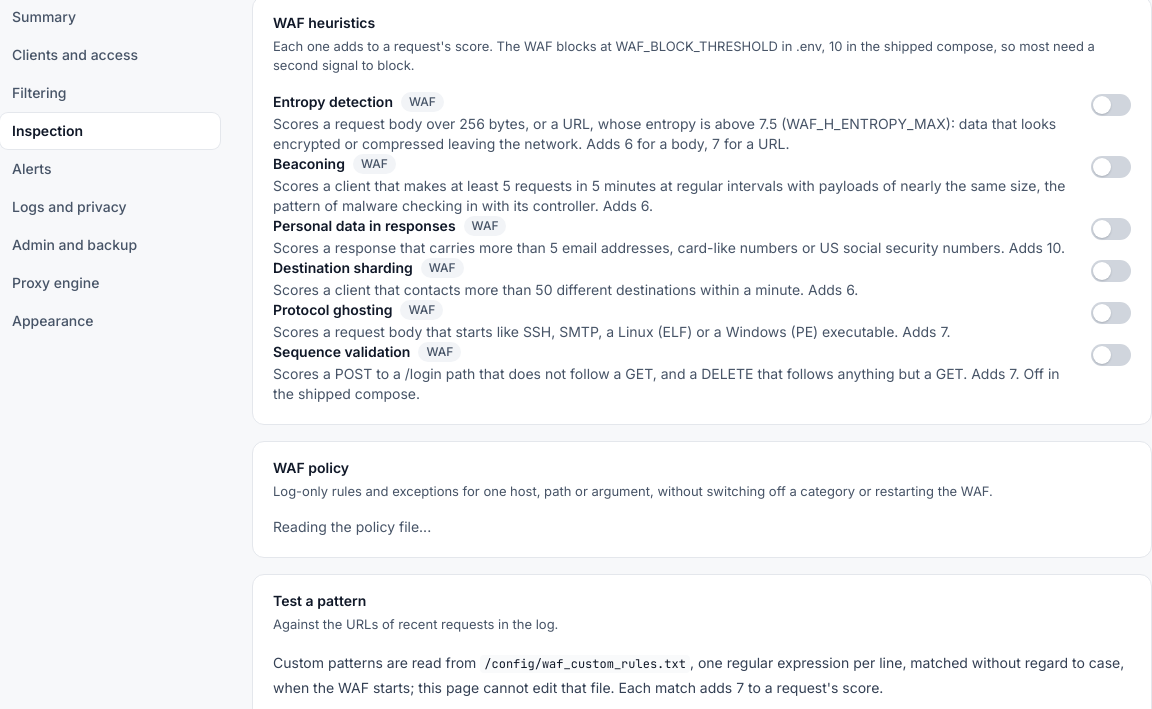
Test: Settings sections, part B › Inspection › reports that the WAF refused the toggle, with the reason the backend gave
This screenshot has width=1152, height=709.
(page scrolled)
Click the switch named "Sequence validation" in the row of "Sequence validation" at (1111, 354), box [1091,344,1131,366]
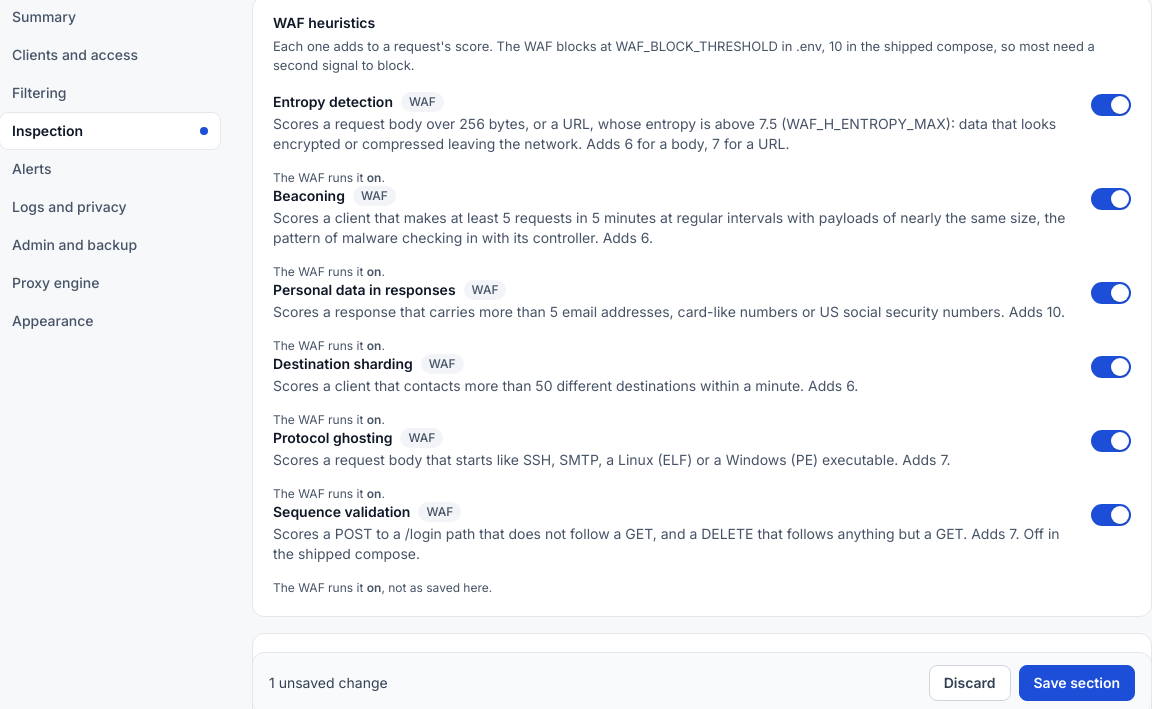
Click the button "Save section" at (1077, 683), box [1018,665,1135,701]
(page scrolled)
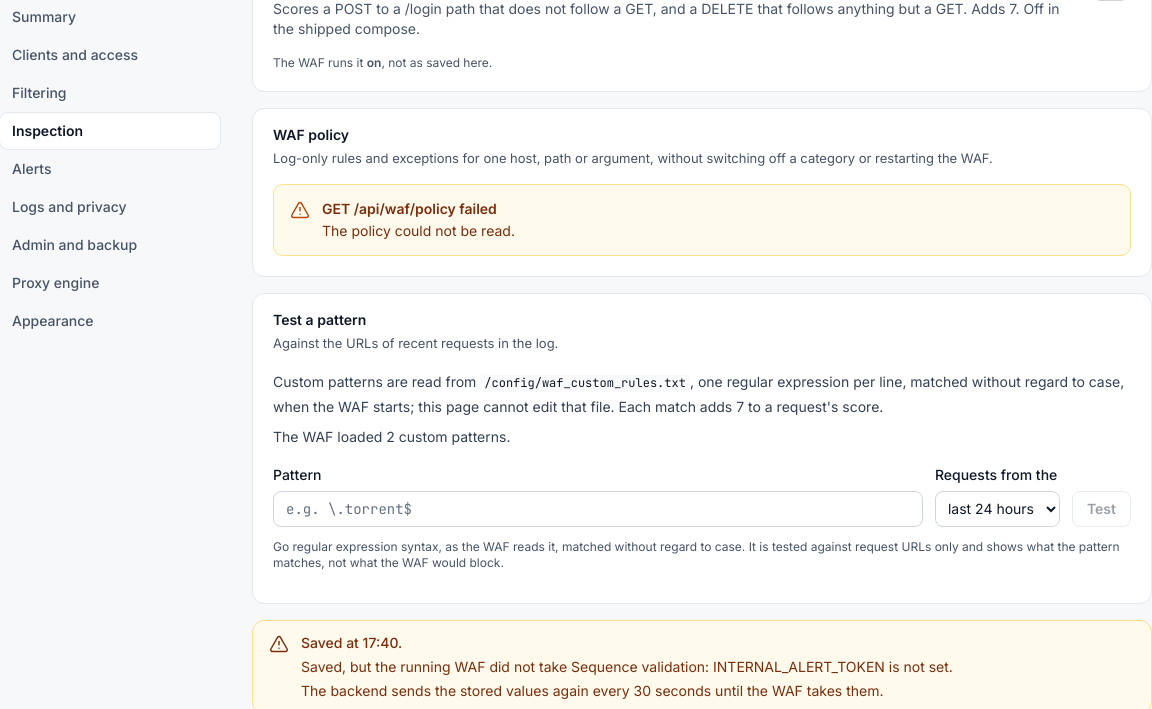
Now the element with test id "save-result" shows "Saved, but the running WAF did not take Sequence validation: INTERNAL_ALERT_TOKEN is not set.", box [301,658,953,674]
Now the element with test id "save-result" shows "The backend sends the stored values again every 30 seconds until the WAF takes them.", box [301,682,884,698]
